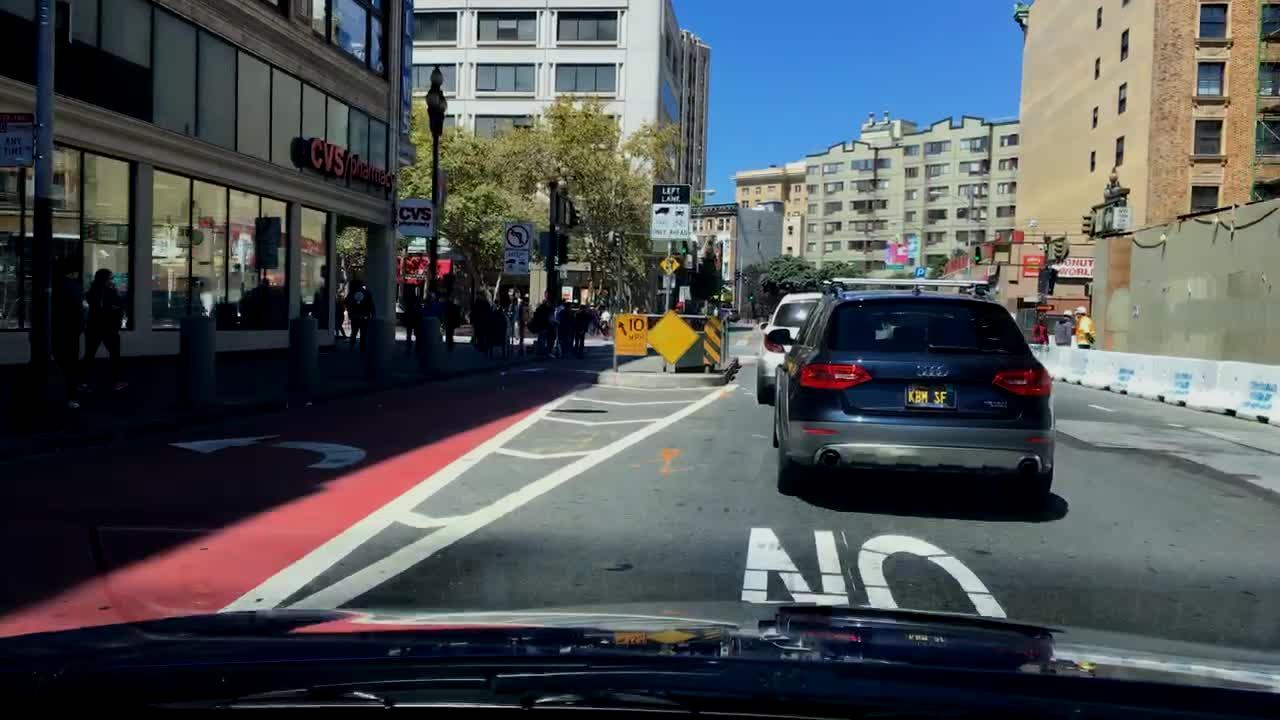Audi: (910, 362, 951, 382)
